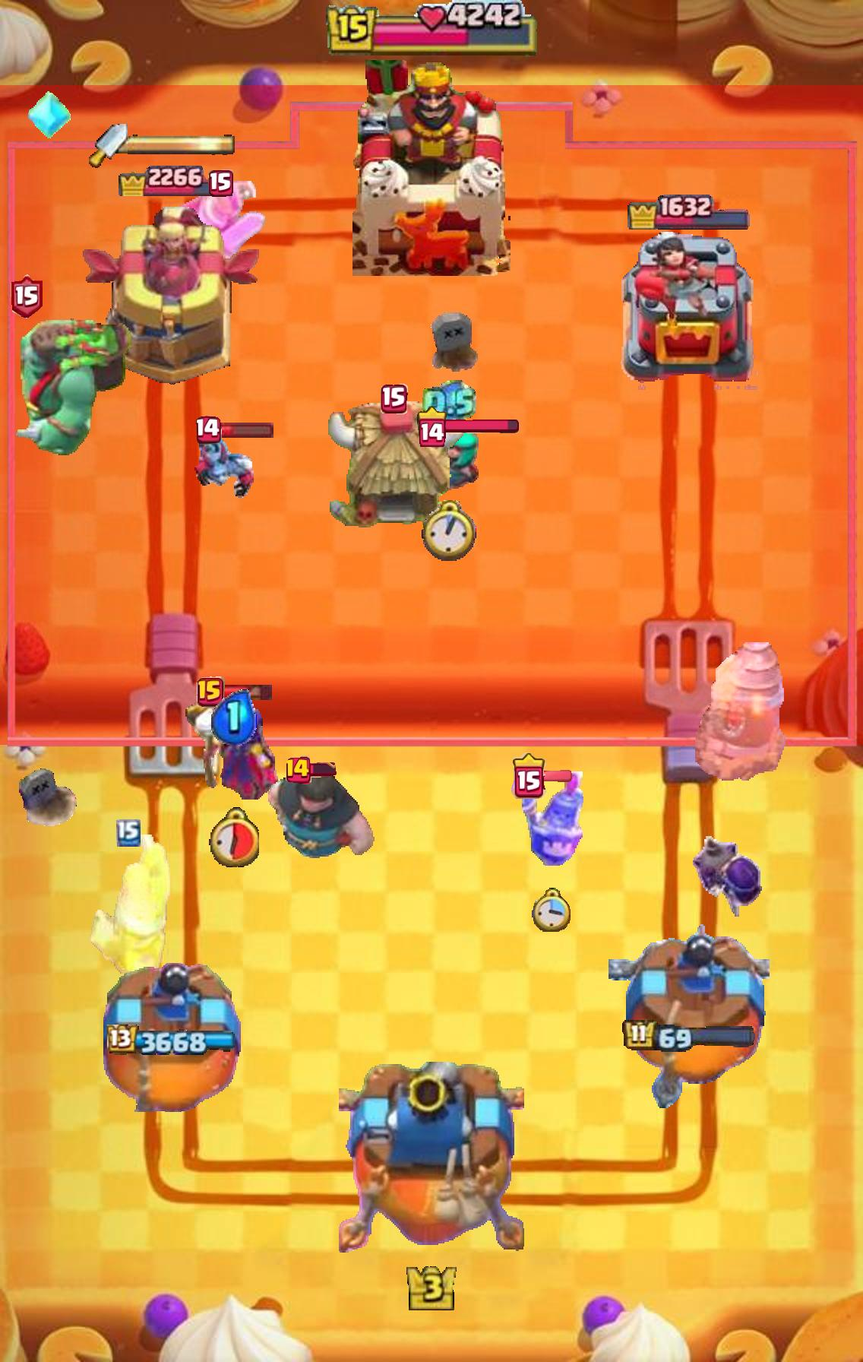bar: (423, 379, 477, 427), (210, 690, 257, 745)
